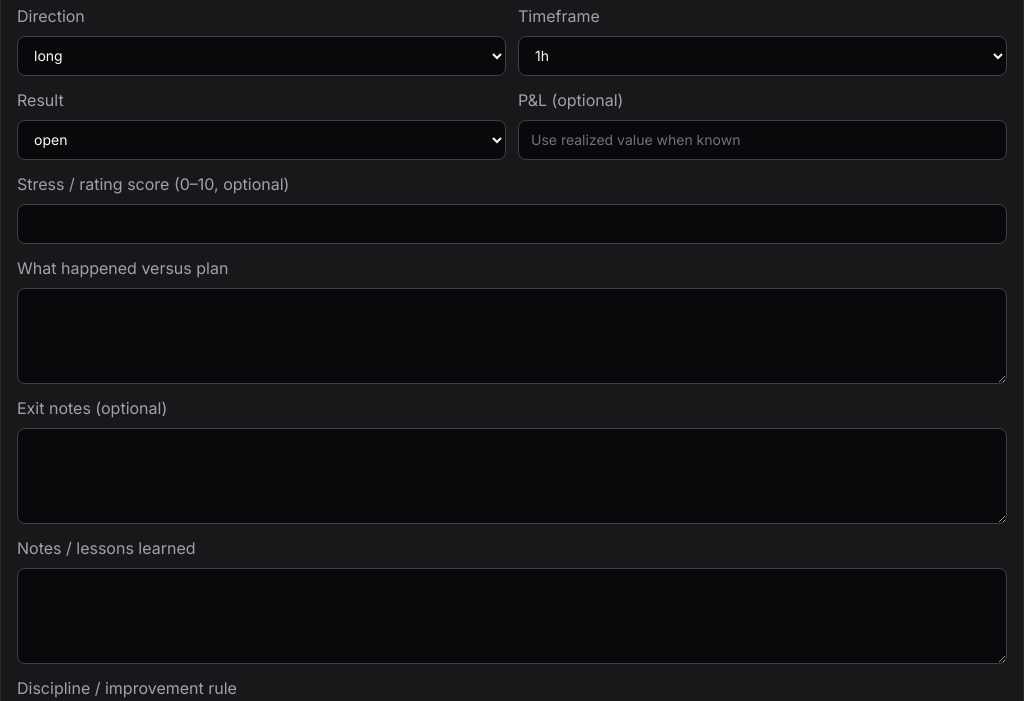
Test: Journal hub Phase C3A › saves a journal entry successfully and shows next safe action
(page scrolled)
Type "Held to plan invalidation." into the text box labelled "What happened versus plan" at (512, 336), box [17,288,1007,384]
(page scrolled)
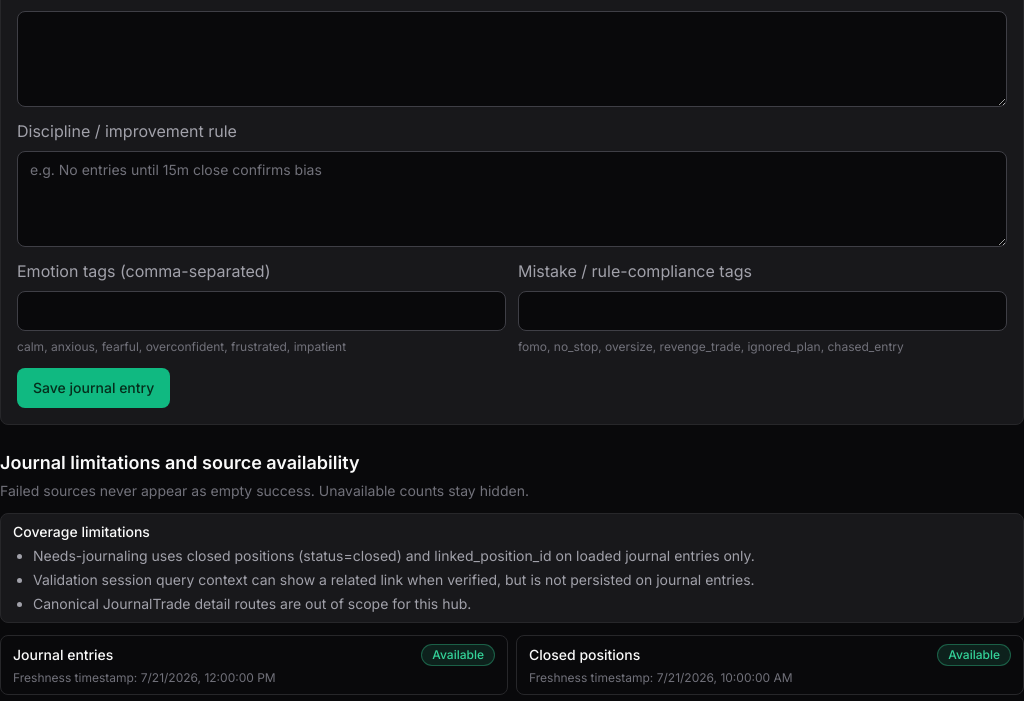
Click the button "Save journal entry" at (94, 388), box [17,368,170,408]
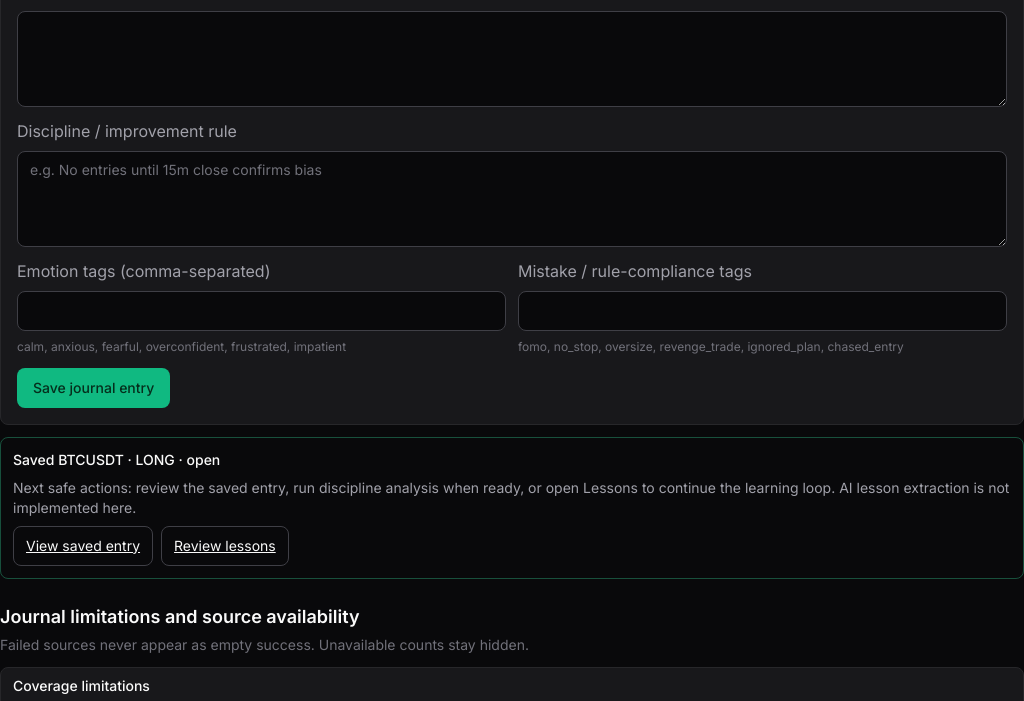
Check: the message with test id "journal-save-success" is shown, box [0,437,1023,579]
Check: the message with test id "journal-save-success" shows "Next safe actions", box [13,479,1010,516]
